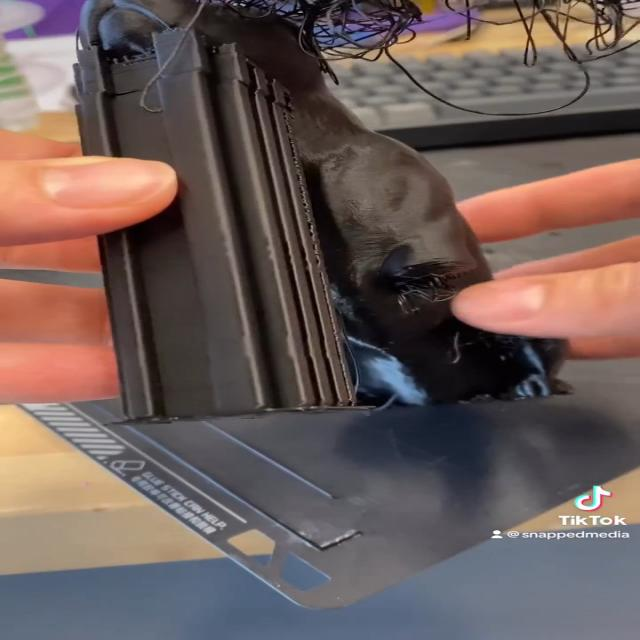spaghetti: (244, 0, 640, 78)
